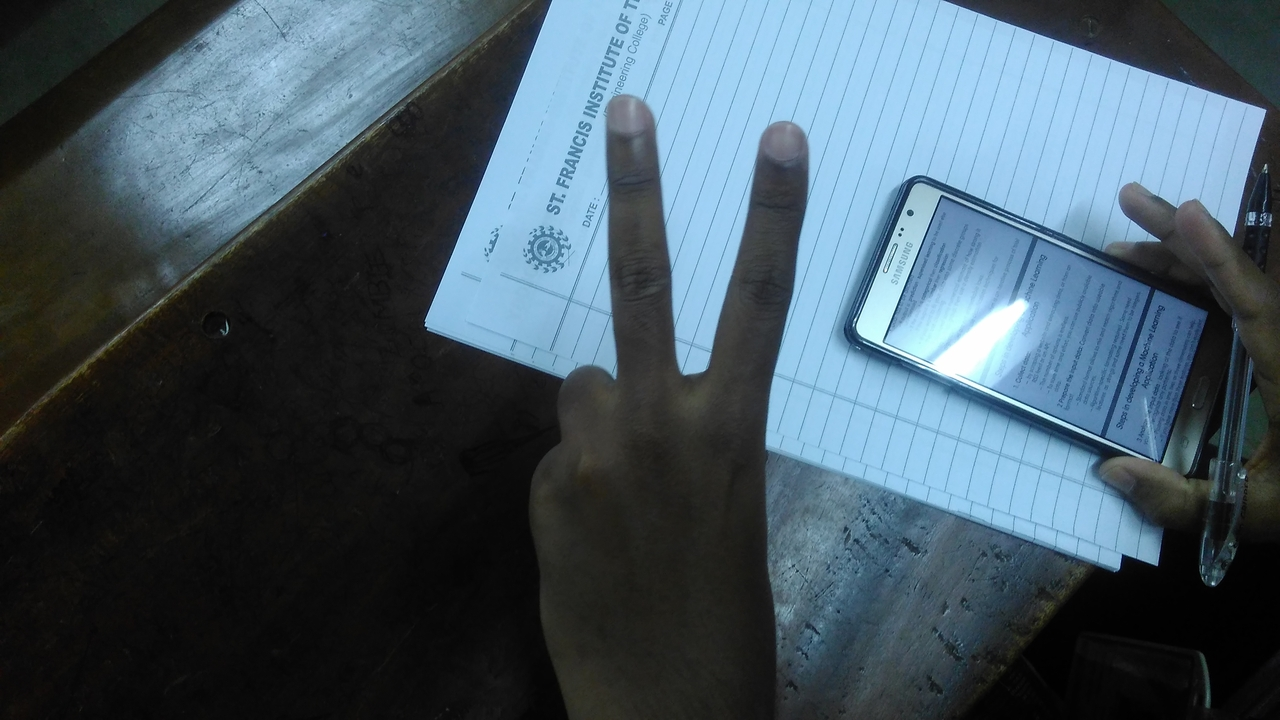fingertip: (754, 120, 820, 178), (602, 90, 662, 146)
